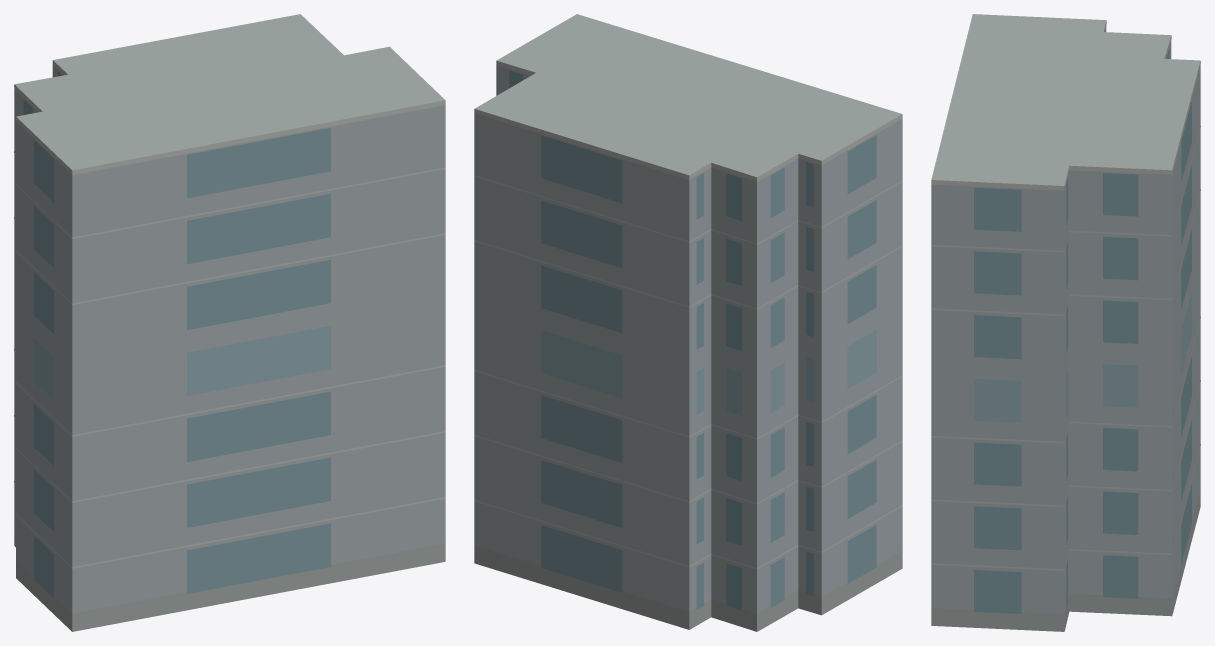
Rendered from survey-upis-32673189.glb.
The picture shows the model from 3 angles, left to right: view 1: azimuth 30°, elevation 25°; view 2: azimuth 150°, elevation 25°; view 3: azimuth 270°, elevation 25°; orthographic projection. The views are drawn at different scales.
Visible parts, largest first — view 1: survey-upis-32673189.tmp; view 2: survey-upis-32673189.tmp; view 3: survey-upis-32673189.tmp.
Part boxes in pixels (x1,y1,x2,y2): survey-upis-32673189.tmp: [14, 14, 445, 631]; survey-upis-32673189.tmp: [474, 14, 902, 631]; survey-upis-32673189.tmp: [931, 14, 1200, 631].
Size of the model in its own units: 19.85 by 23.96 by 13.14.
